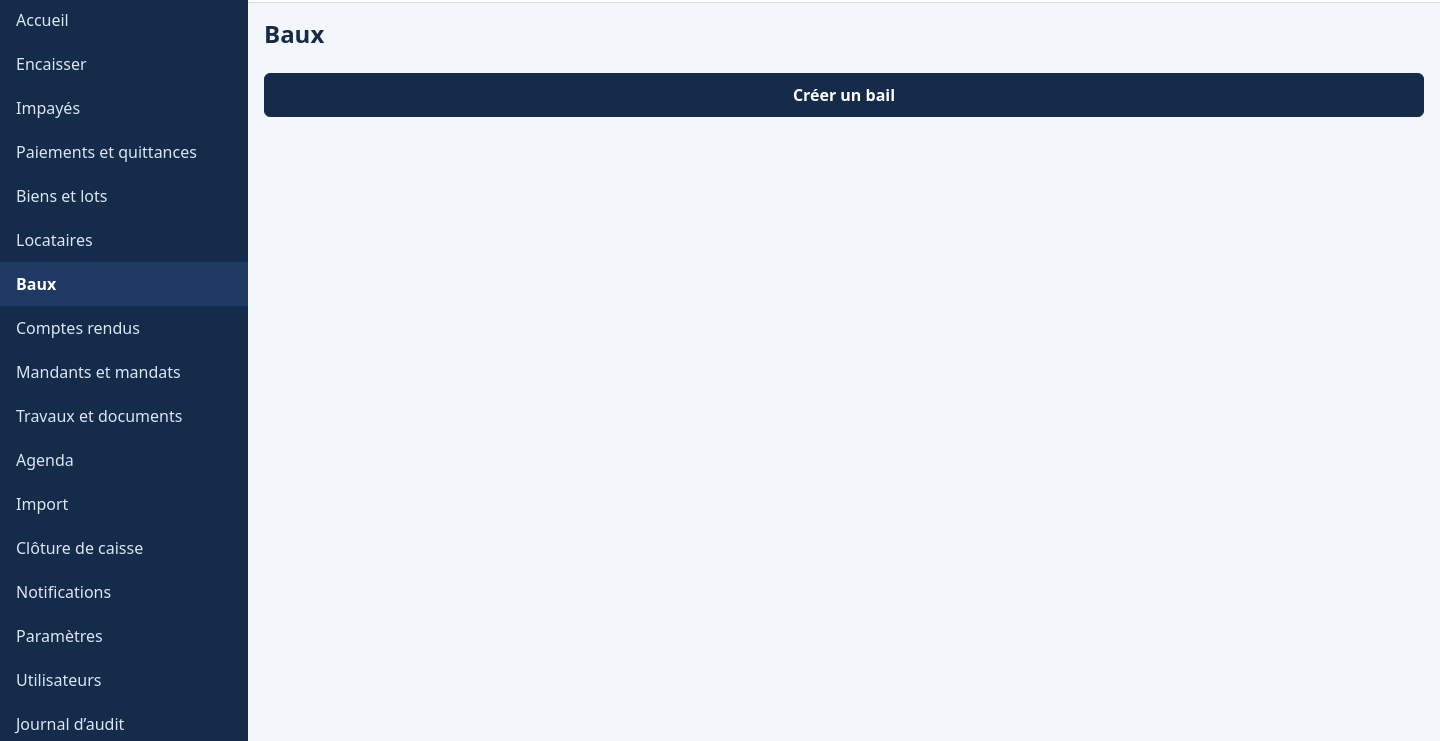
Test case: S10 création d’un bail en trois étapes › un refus du serveur s’affiche à l’étape 3, sans quitter l’assistant ni activer
Click the button "Créer un bail" at x=844, y=95, box [264, 73, 1424, 117]
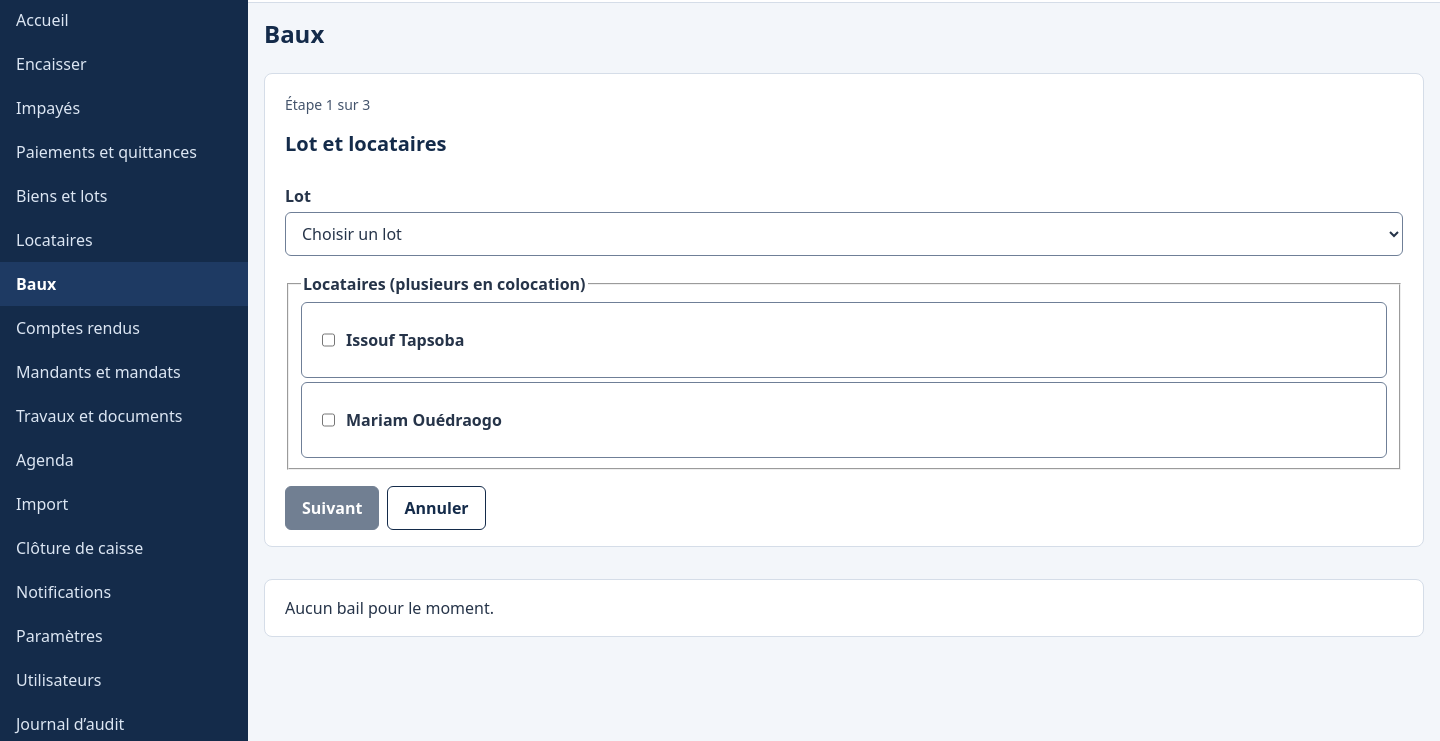
Select "A1 · Zogona" in the dropdown labelled "Lot" at x=844, y=234, box [285, 212, 1403, 256]
Click the checkbox labelled "Issouf Tapsoba" at x=328, y=340, box [322, 318, 335, 362]
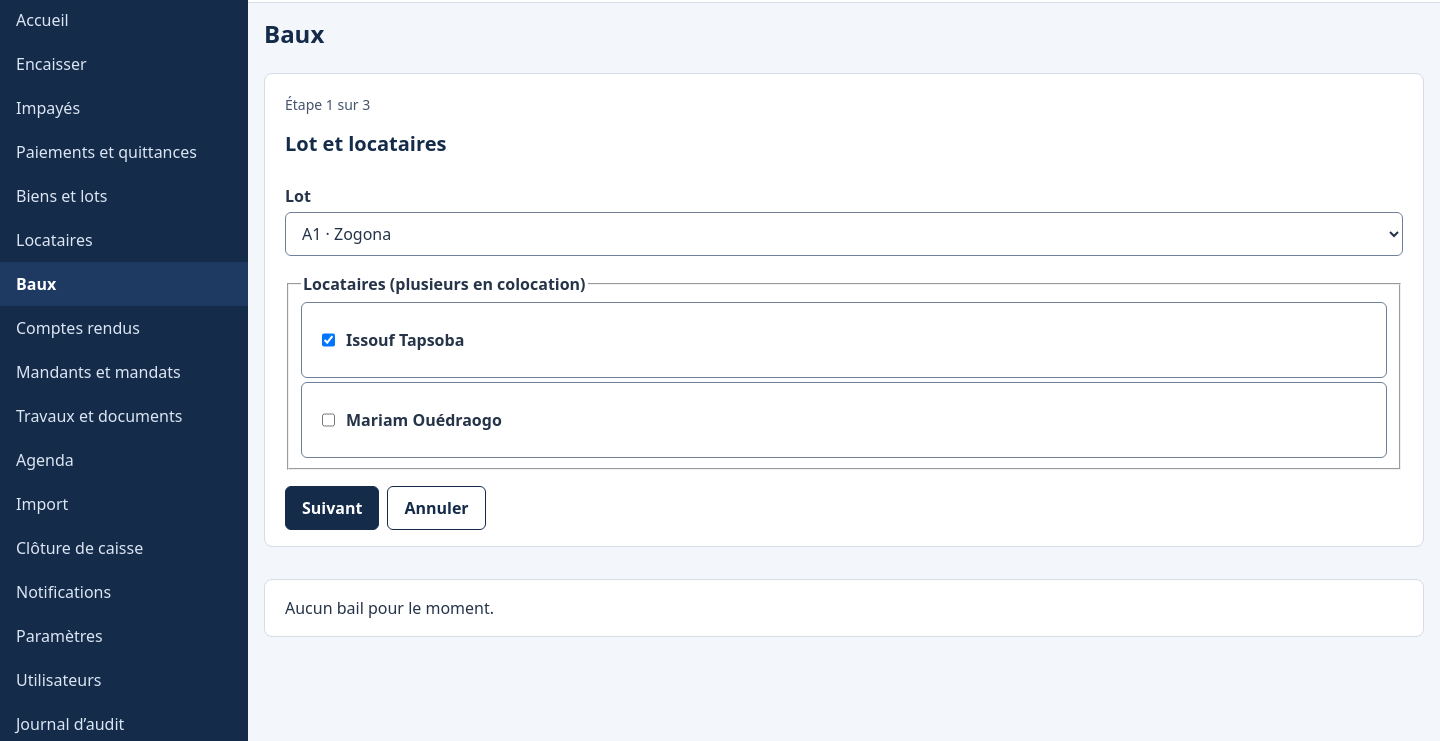
Click the button "Suivant" at x=332, y=508, box [285, 486, 379, 530]
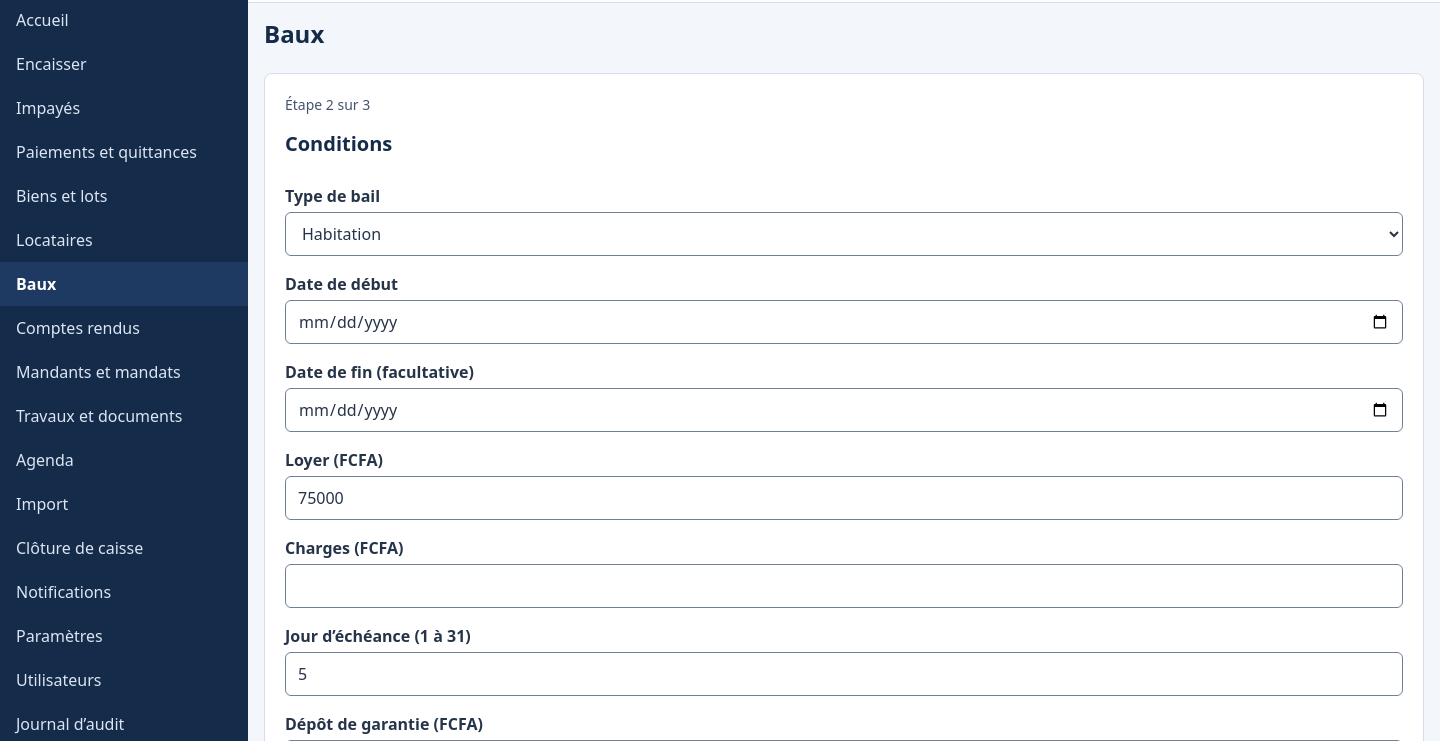
Type "2027-03-01" into the date field labelled "Date de début" at x=844, y=322, box [285, 300, 1403, 344]
(page scrolled)
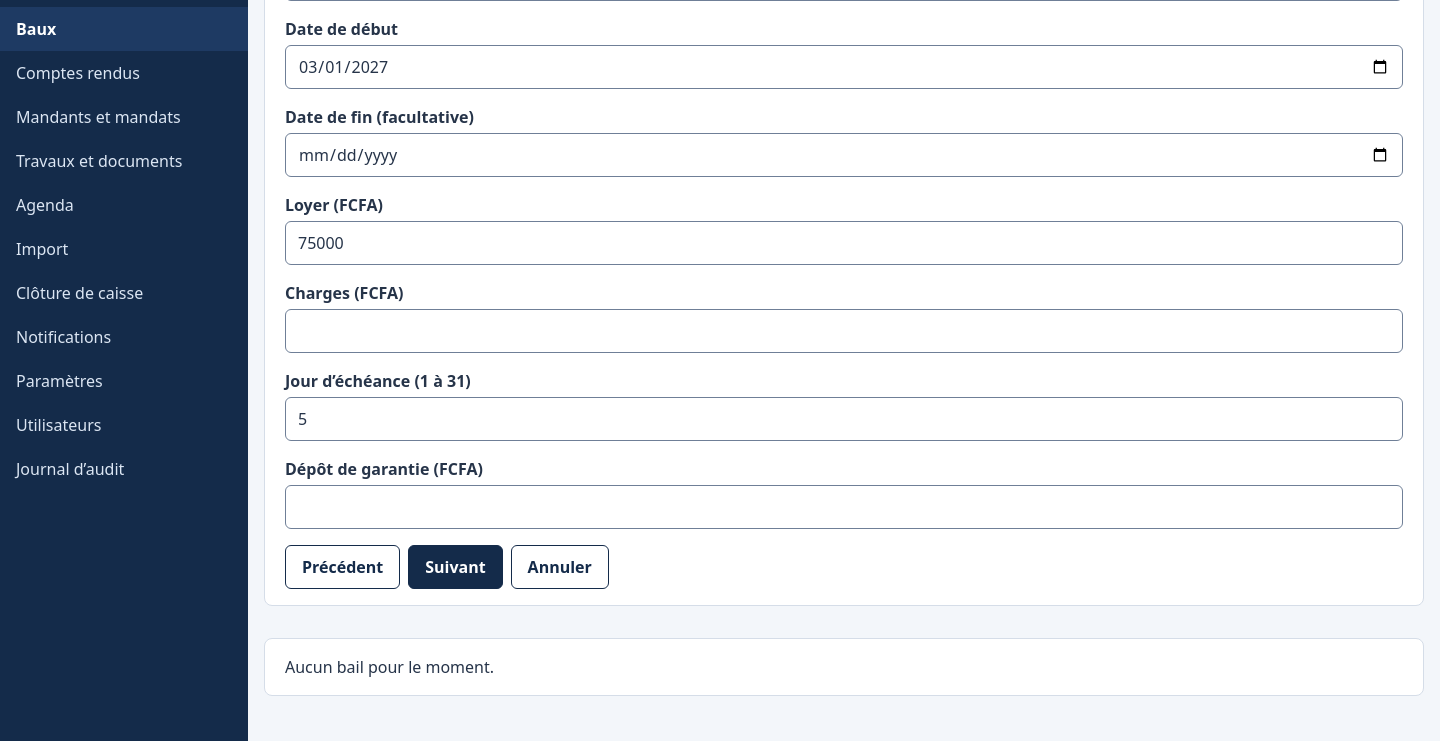
Click the button "Suivant" at x=455, y=567, box [408, 545, 503, 589]
(page scrolled)
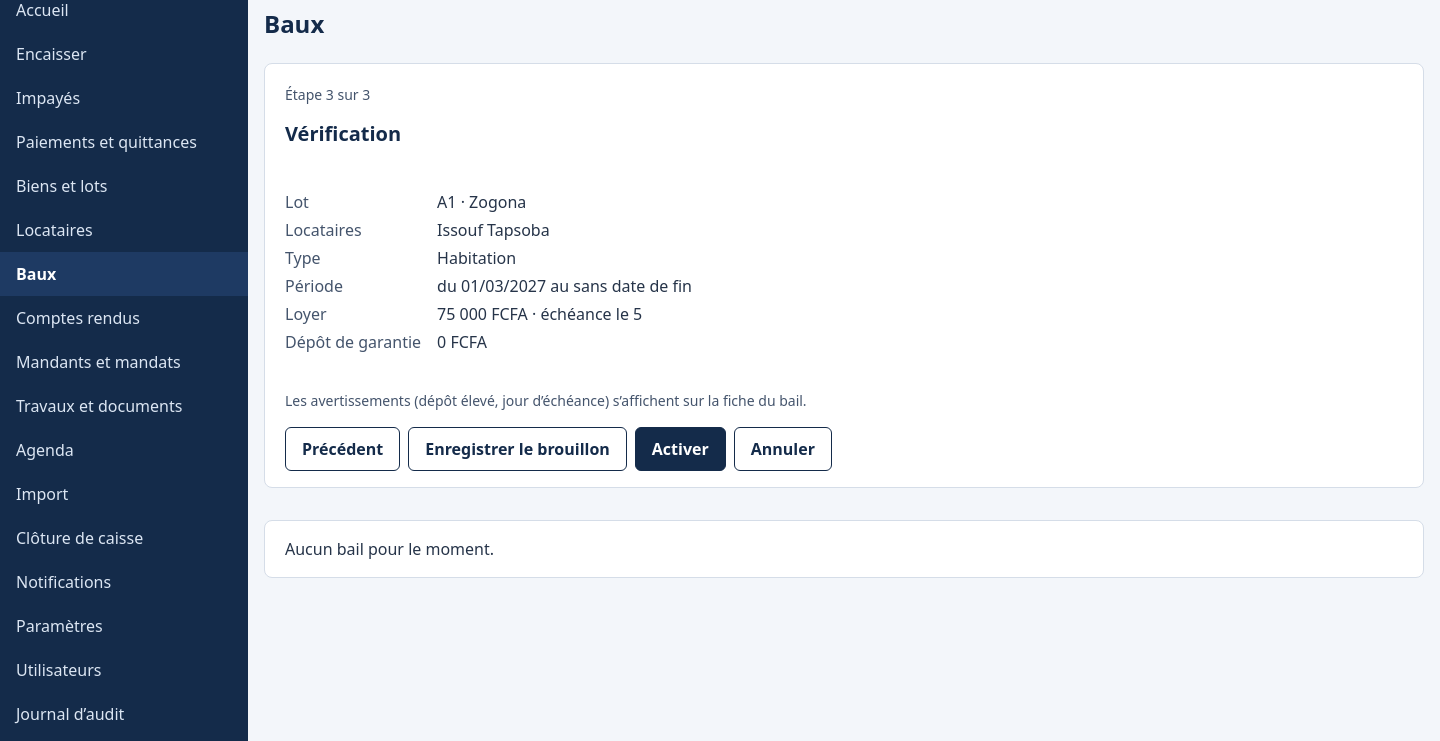
Click the button "Enregistrer le brouillon" at x=518, y=449, box [408, 427, 627, 471]
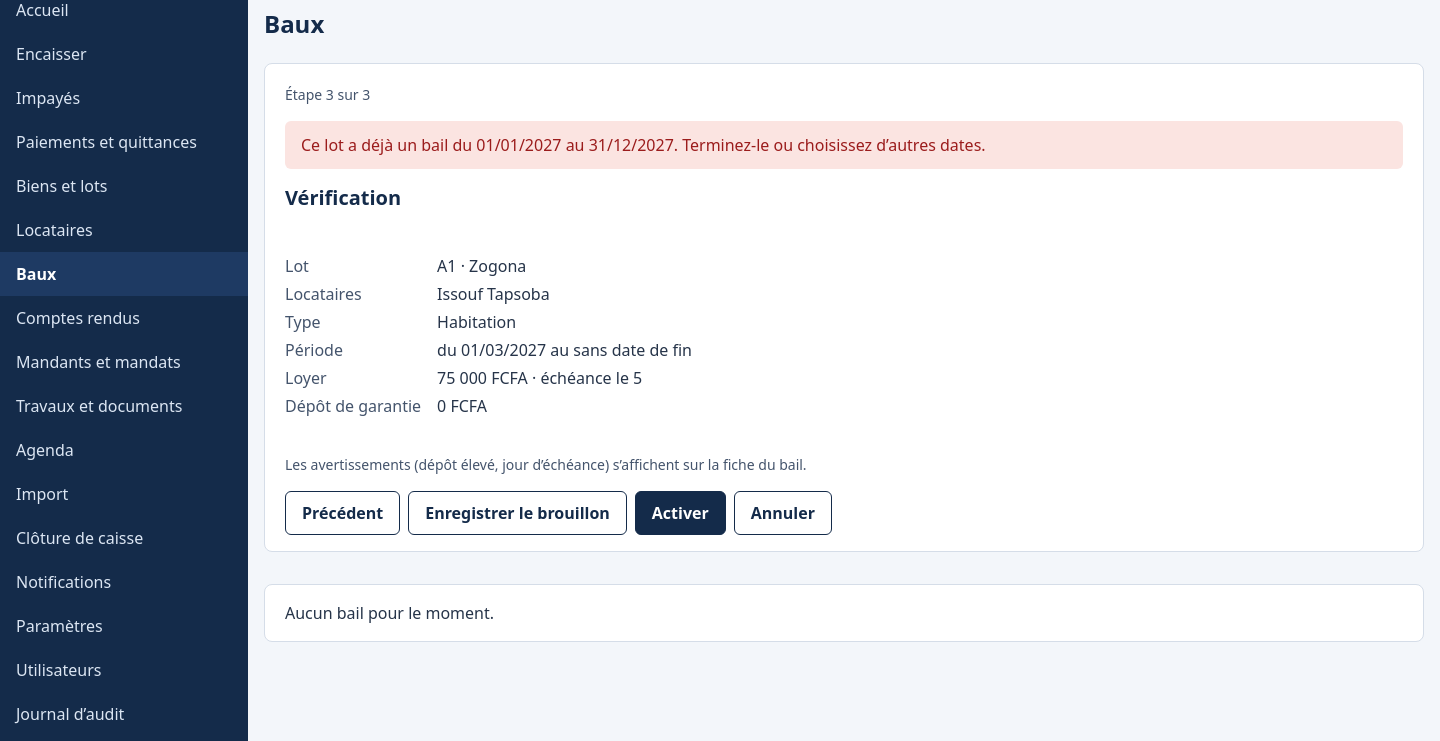
Result: the text "Étape 3 sur 3" is shown at [285, 85, 370, 104]
Result: the text "Ce lot a déjà un bail du 01/01/2027 au 31/12/2027. Terminez-le ou choisissez d’autres dates." is shown at [301, 134, 986, 156]
